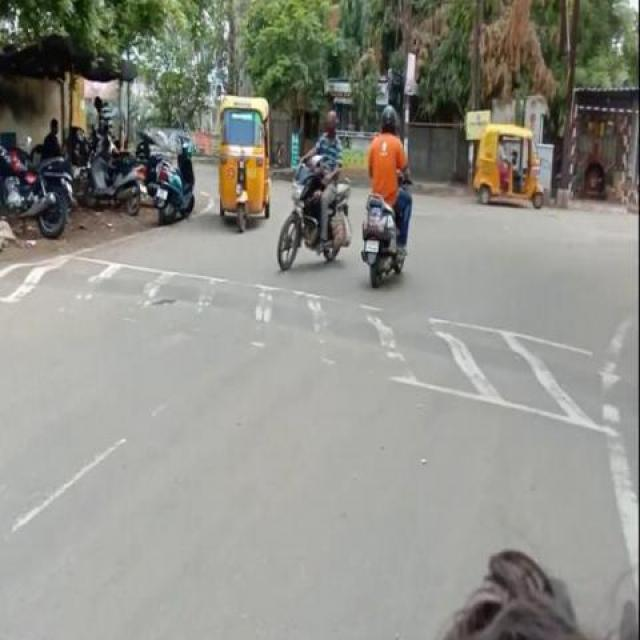Pothole: (618, 595, 638, 640), (148, 296, 178, 308)
Speed Bump: (248, 288, 638, 414), (3, 262, 249, 324)
